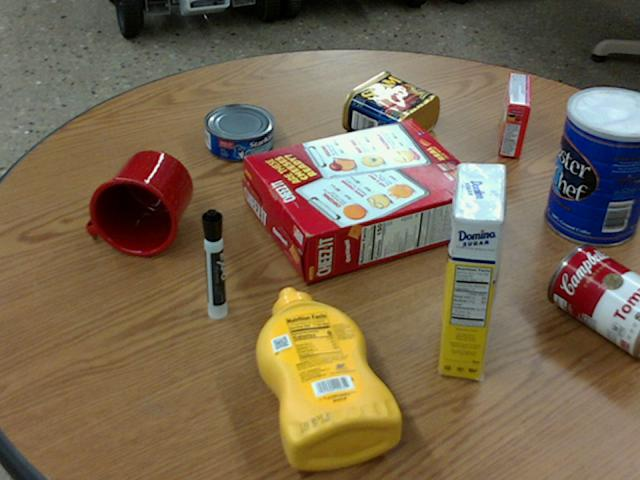cracker_box: (243, 119, 485, 283)
gelatin_box: (498, 73, 529, 157)
large_marker: (201, 208, 225, 318)
master_chef_can: (545, 88, 639, 246)
mug: (86, 149, 191, 255)
mustard_bottle: (255, 287, 401, 468)
potted_meat_can: (342, 71, 439, 148)
sugar_box: (439, 161, 505, 379)
tomato_soup_can: (548, 242, 639, 355)
tuna_fish_can: (204, 102, 273, 159)
